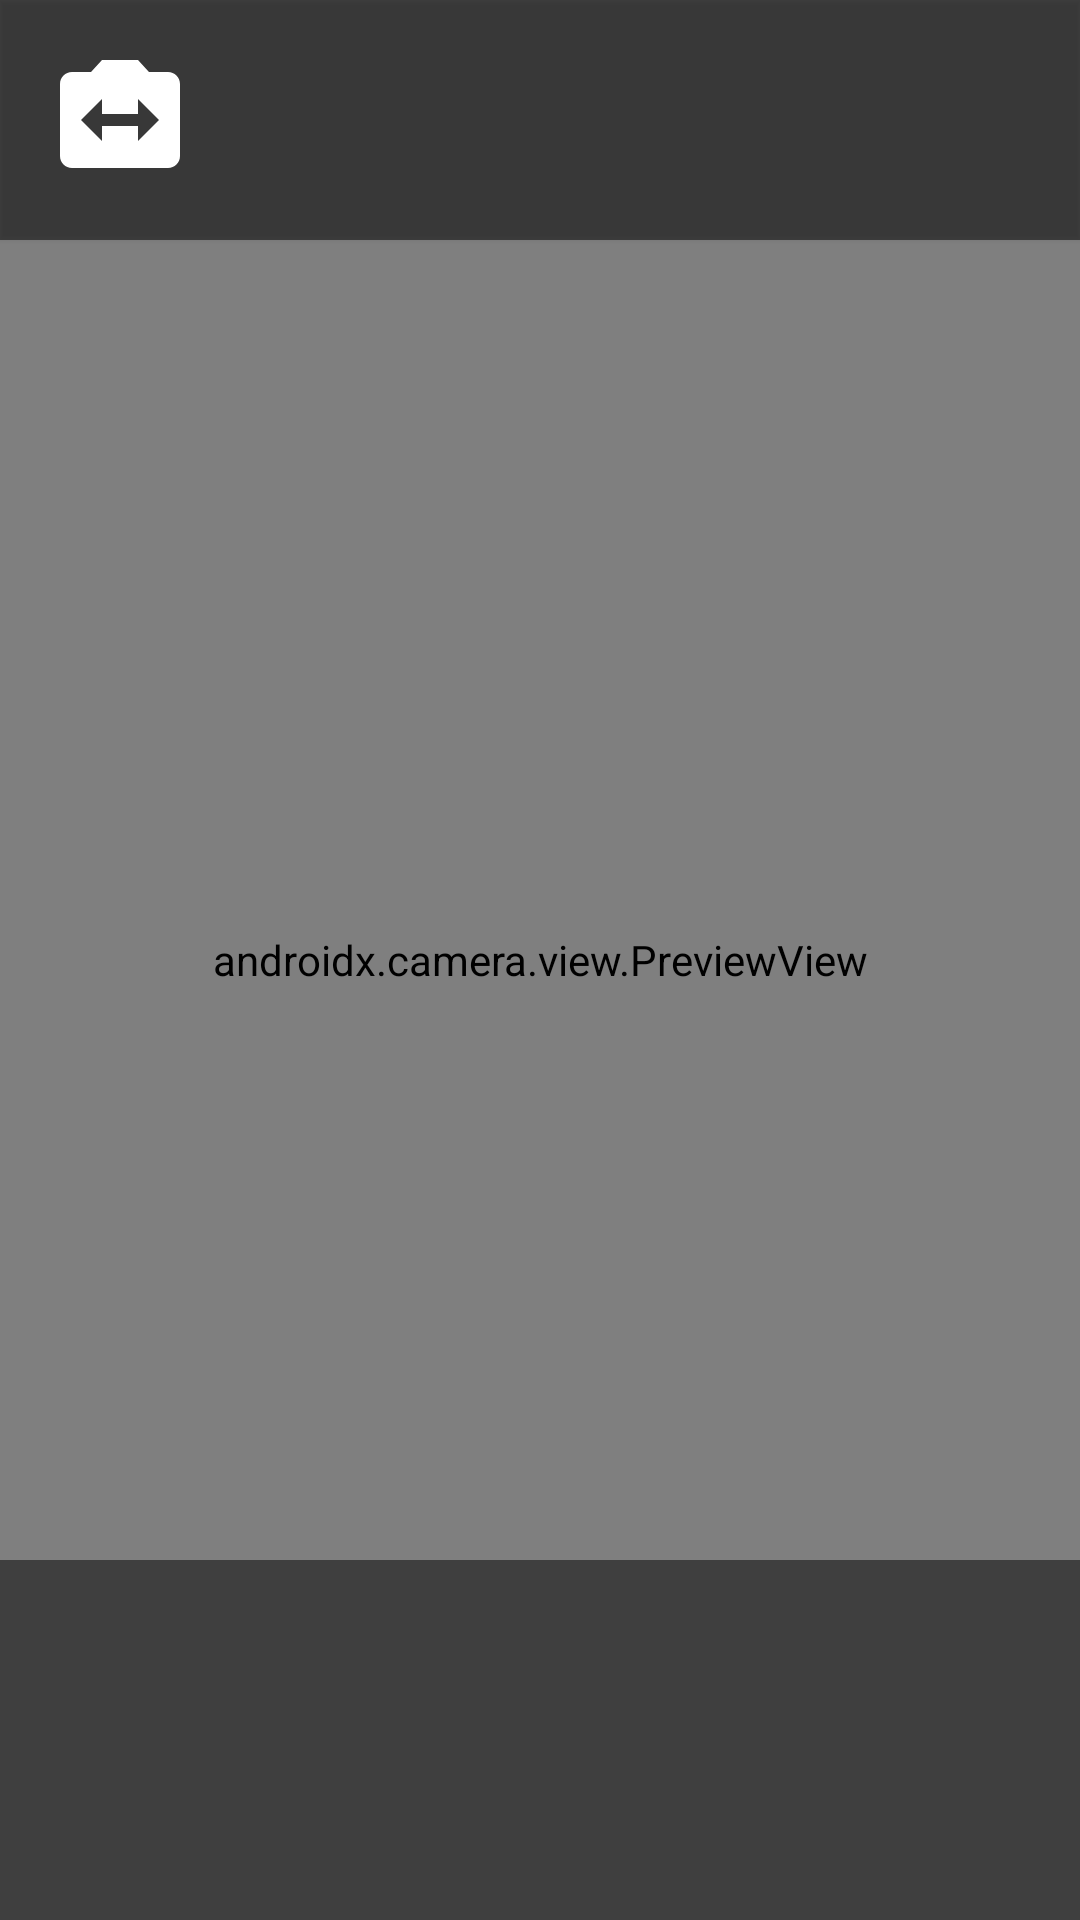

Icons on this 1080px×1920px Android screen, each with the point to tap as [x,y]:
Switch: [120,114]
